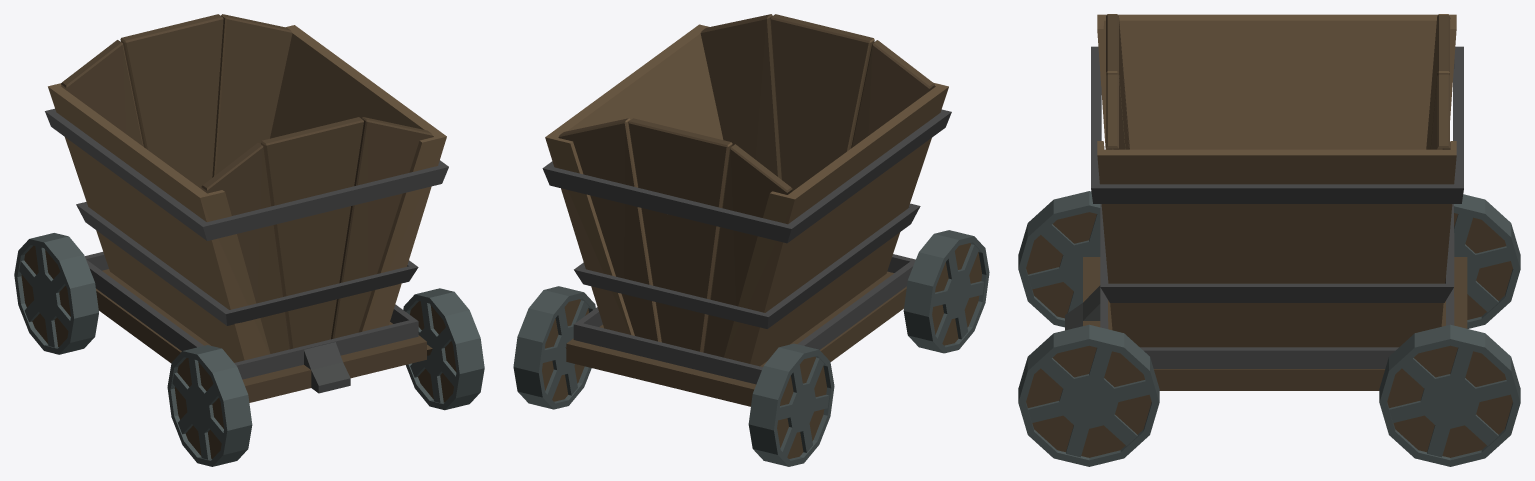
File: ZLP_Build_F_6.FBX
3 views of the same model, side by side, from view 1: azimuth 30°, elevation 25°; view 2: azimuth 150°, elevation 25°; view 3: azimuth 270°, elevation 25° (orthographic). The views are drawn at different scales.
Parts seen in each view (by area): view 1: ZLP_Build_F_6; view 2: ZLP_Build_F_6; view 3: ZLP_Build_F_6.
Boxes of the visible parts, box(x1,y1,x2,y2) form: ZLP_Build_F_6: box(14, 14, 484, 466); ZLP_Build_F_6: box(513, 14, 989, 466); ZLP_Build_F_6: box(1018, 14, 1520, 466).
Size of the model in its own units: 95.17 by 104 by 136.
